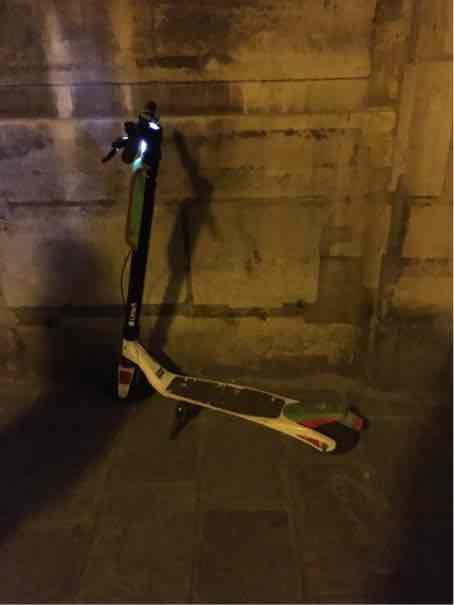scooter: (87, 90, 374, 455)
